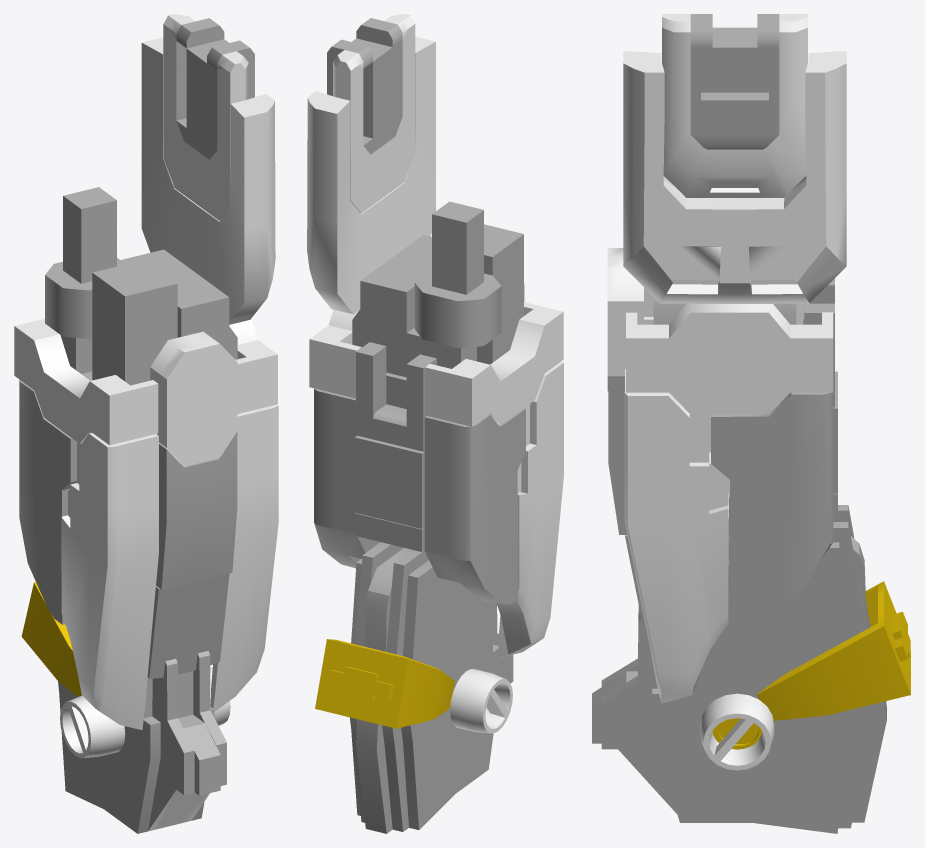
The model's file is uleftleg.fbx.
3 renders of one model, left to right at view 1: azimuth 30°, elevation 25°; view 2: azimuth 150°, elevation 25°; view 3: azimuth 270°, elevation 25°, orthographic. The views are drawn at different scales.
Visible parts, largest first — view 1: uleftleg; view 2: uleftleg; view 3: uleftleg.
Part boxes in pixels (x1,y1,x2,y2): uleftleg: (14, 14, 278, 833); uleftleg: (307, 14, 563, 833); uleftleg: (592, 14, 910, 833).
Size of the model in its own units: 249 by 1033 by 358.
